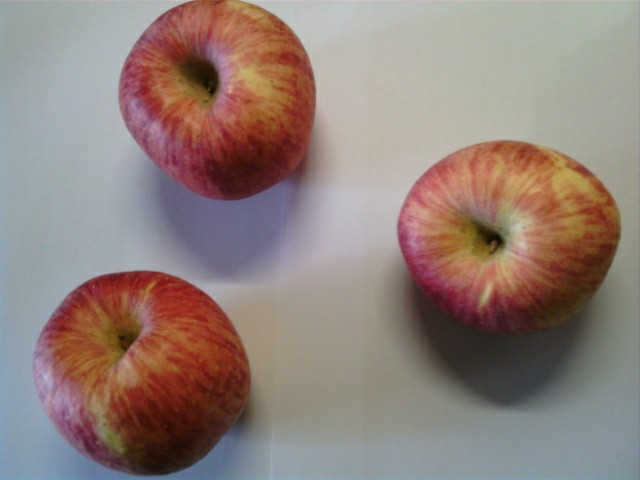normal_apple: (31, 270, 253, 480), (398, 138, 622, 338), (111, 1, 317, 203)
